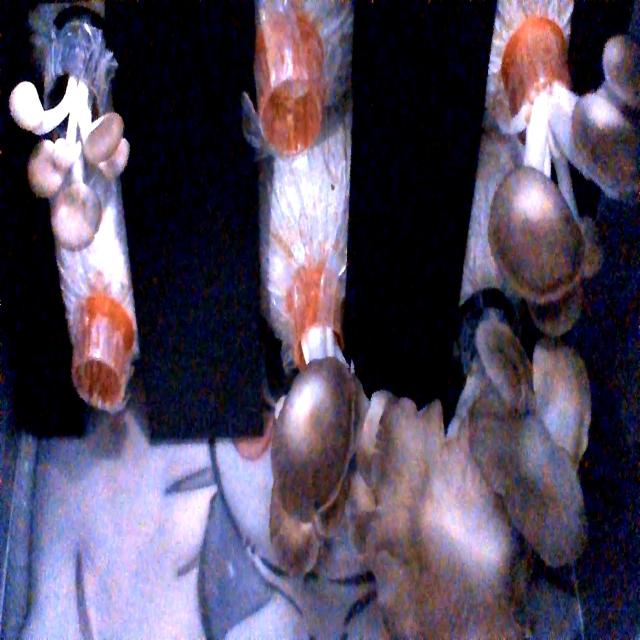big: (332, 314, 629, 640), (485, 28, 640, 316), (252, 307, 396, 581)
nfound: (253, 58, 332, 165), (67, 335, 133, 427)
small: (0, 75, 143, 252)
